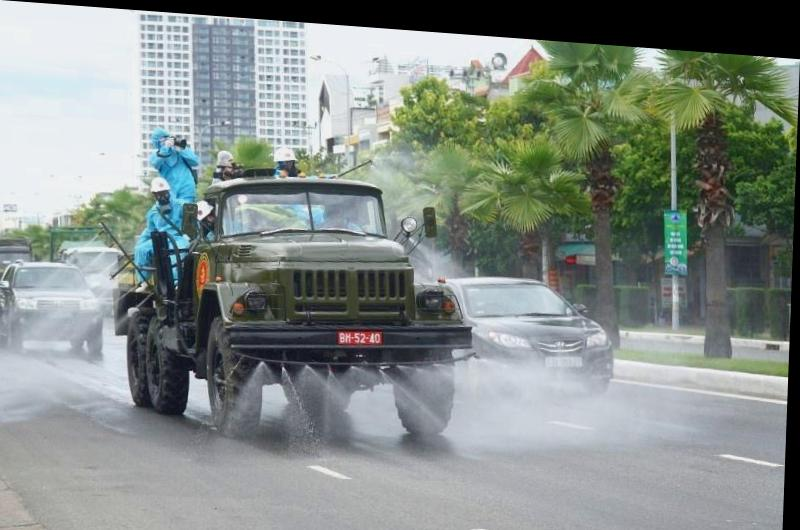License_Plate: (337, 328, 387, 350), (540, 353, 585, 371)
